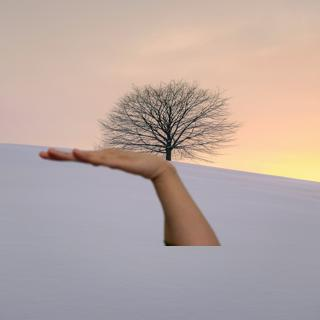WAIT: (34, 139, 171, 181)
